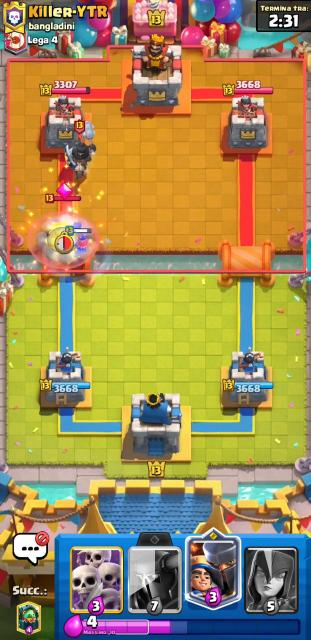ally_melee: (66, 225, 92, 254)
enemy_melee: (66, 120, 94, 179)
